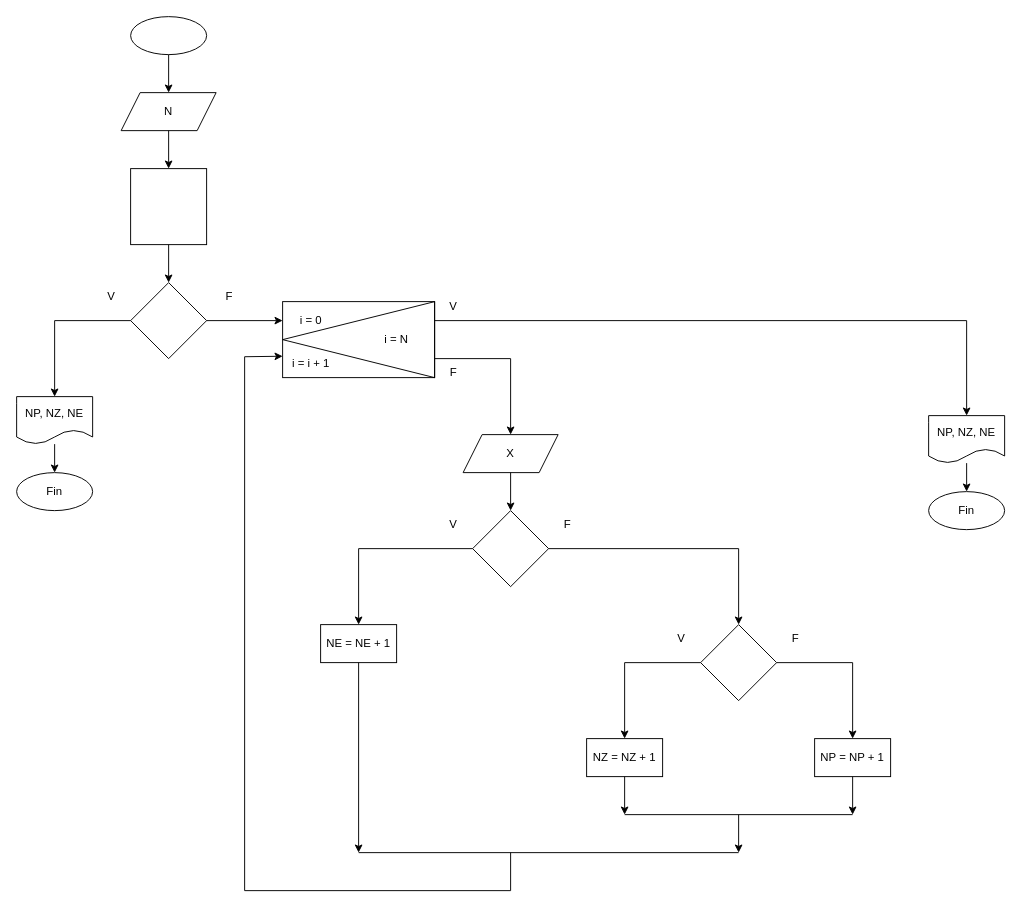
The diagram is 1021 pixels wide and 915 high, and some of its shapes have lost their labels. The centre of each missing label's shape, as x and y in pixels:
"i = 0 NP = 0 NZ = 0 NE = 0" belongs at (x=168, y=206).
"Inicio" belongs at (x=168, y=35).
"N < 0" belongs at (x=168, y=320).
"X < 0" belongs at (x=510, y=548).
"X = 0" belongs at (x=738, y=662).
